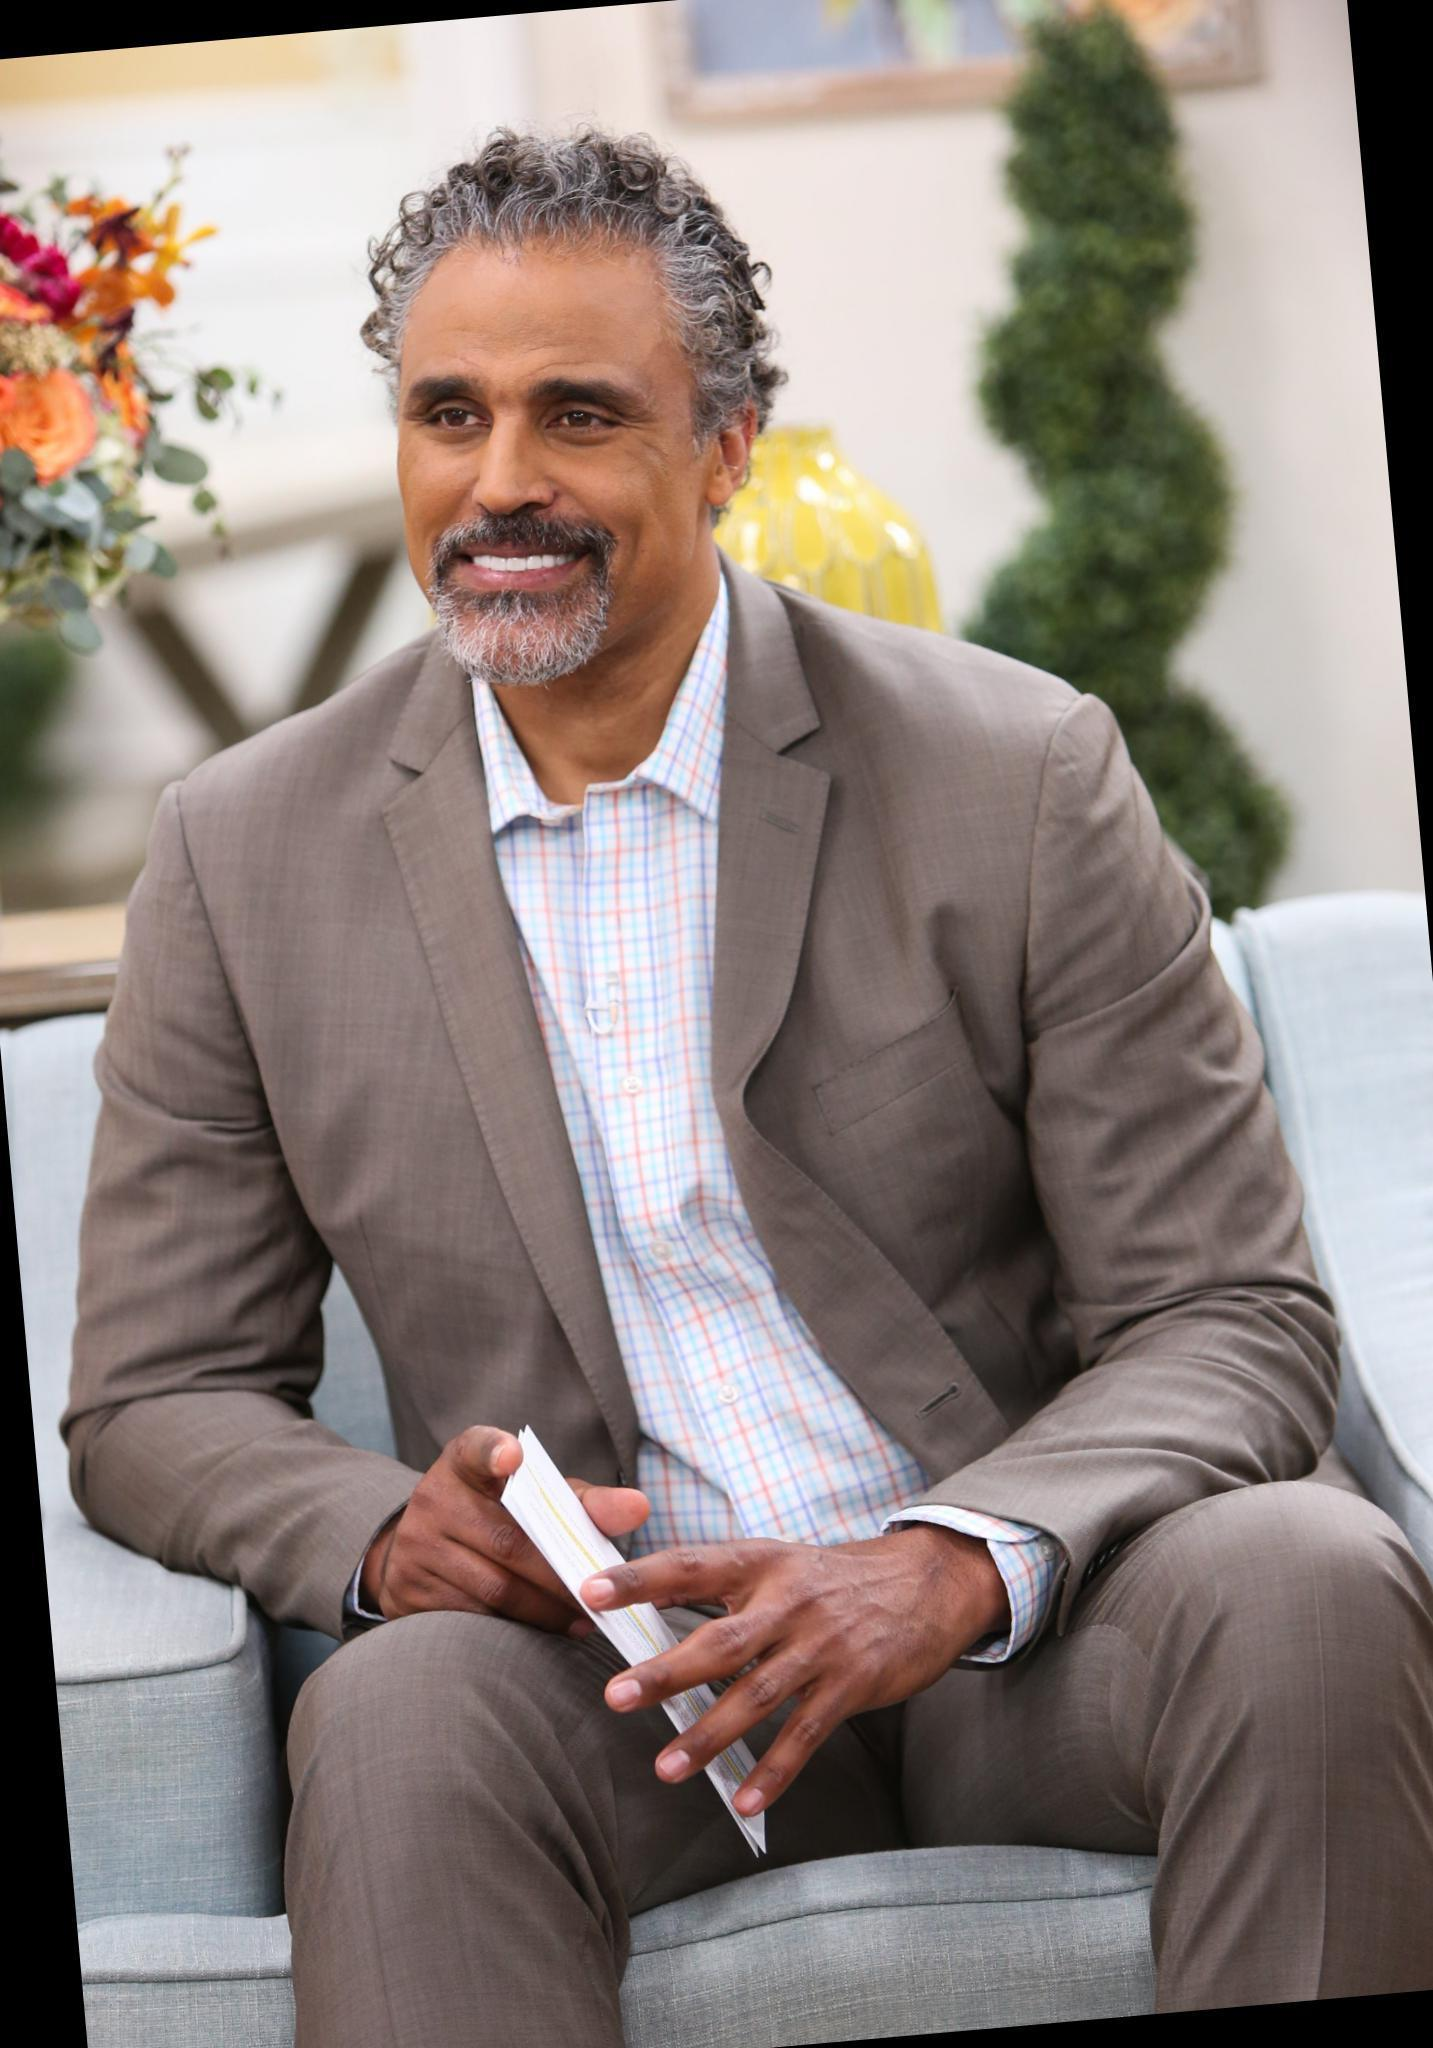Sober: (401, 251, 699, 657)
